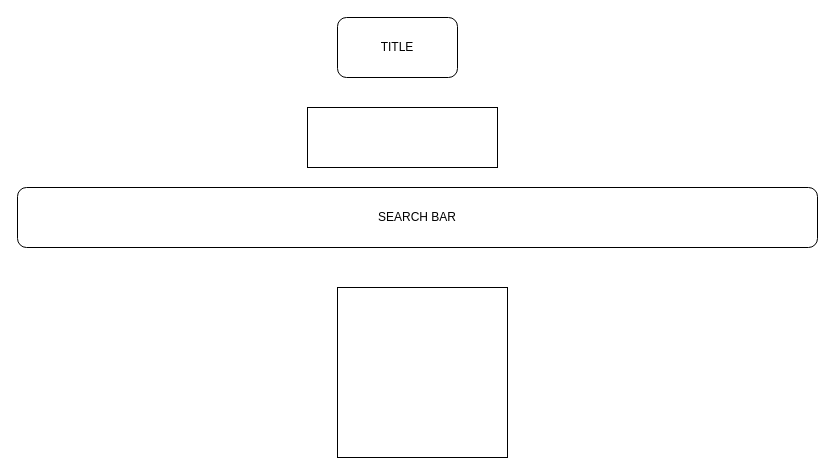
The diagram is 835 pixels wide and 475 high, and some of its shapes have lost their labels. The shapes that lost their labels are listed below. From the top down, each one's centre as x and y in pixels, then its label:
At (402,137): "NAV BAR HOME TRENDING".
At (422,372): "FUNNY PICTURE".
